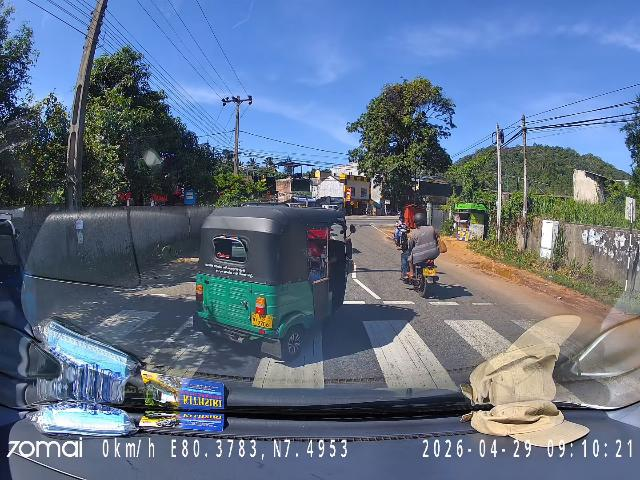illegal overtaking: (403, 212, 449, 301)
number plate: (252, 313, 274, 330), (421, 268, 437, 278)
